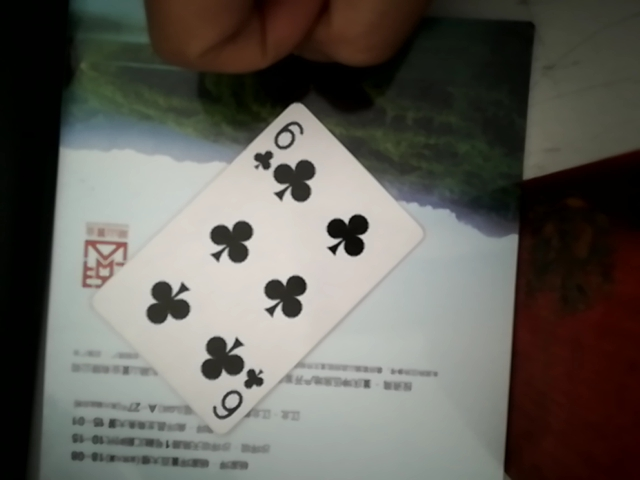mh 6: (80, 97, 421, 424)
